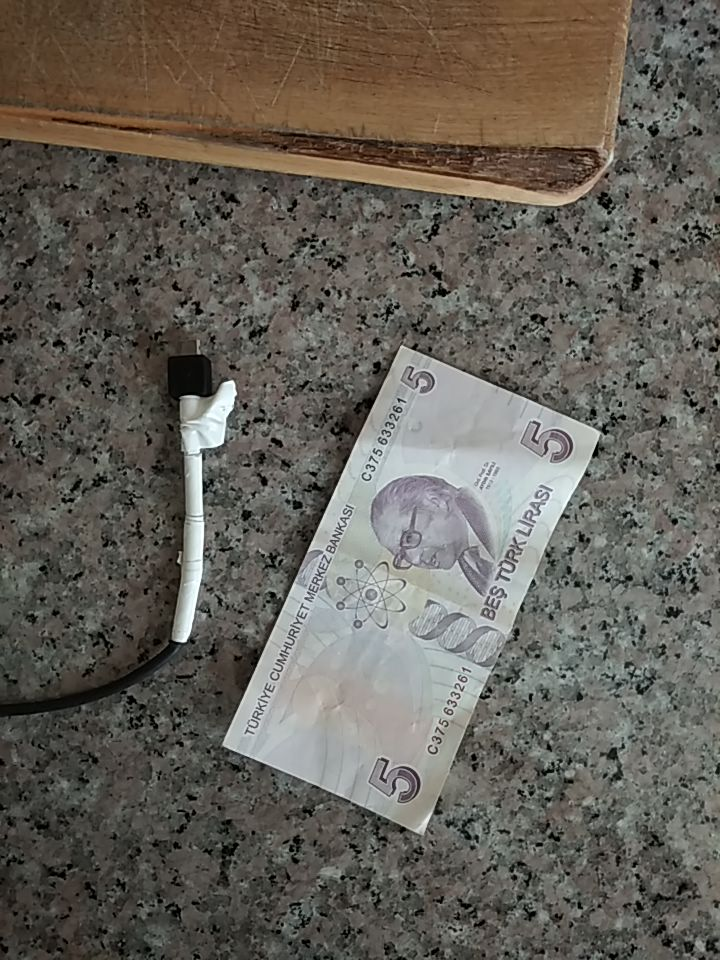5TL: (218, 345, 604, 836)
